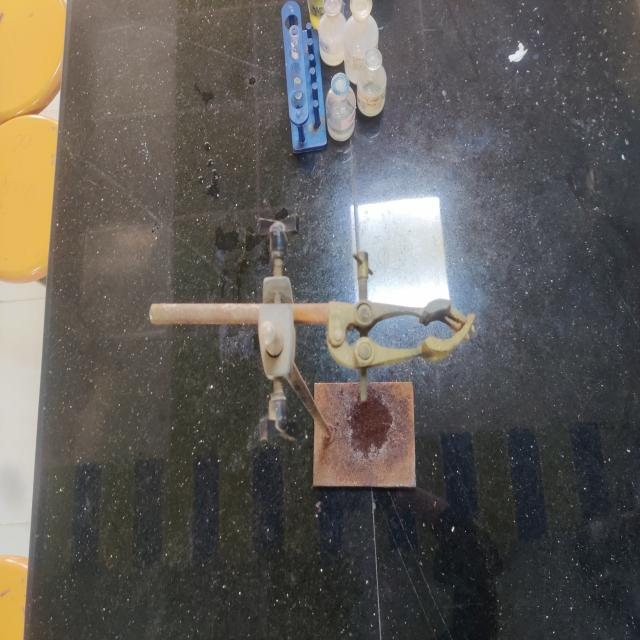Burette_Stands: (120, 209, 486, 525)
